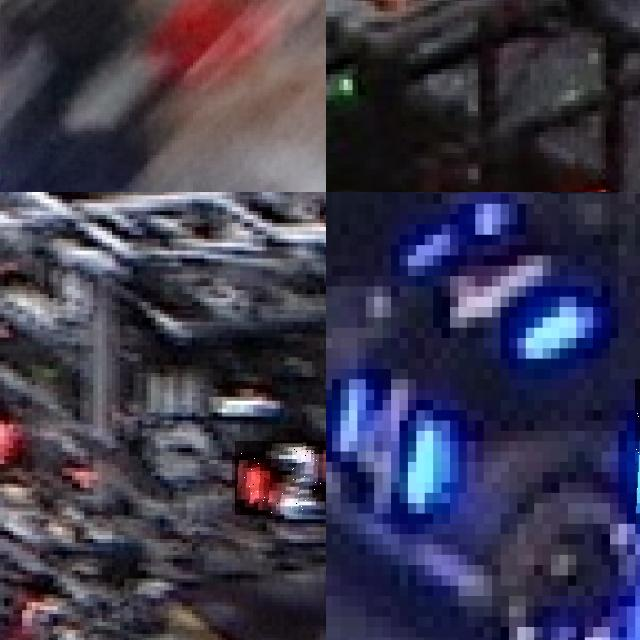B4: (326, 358, 450, 513)
R2: (235, 440, 326, 515)
